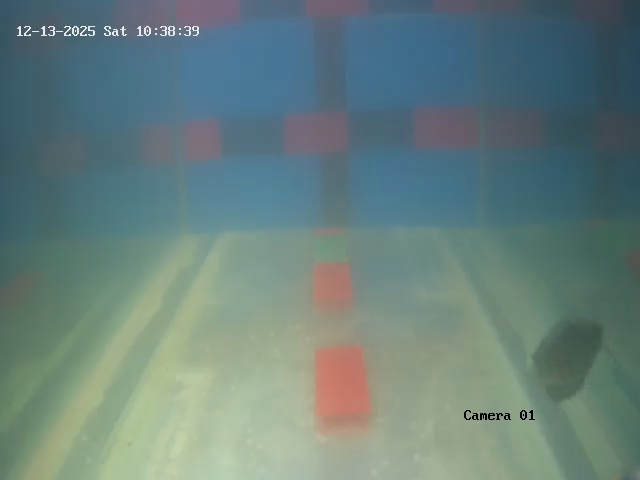fish: (537, 318, 607, 401)
